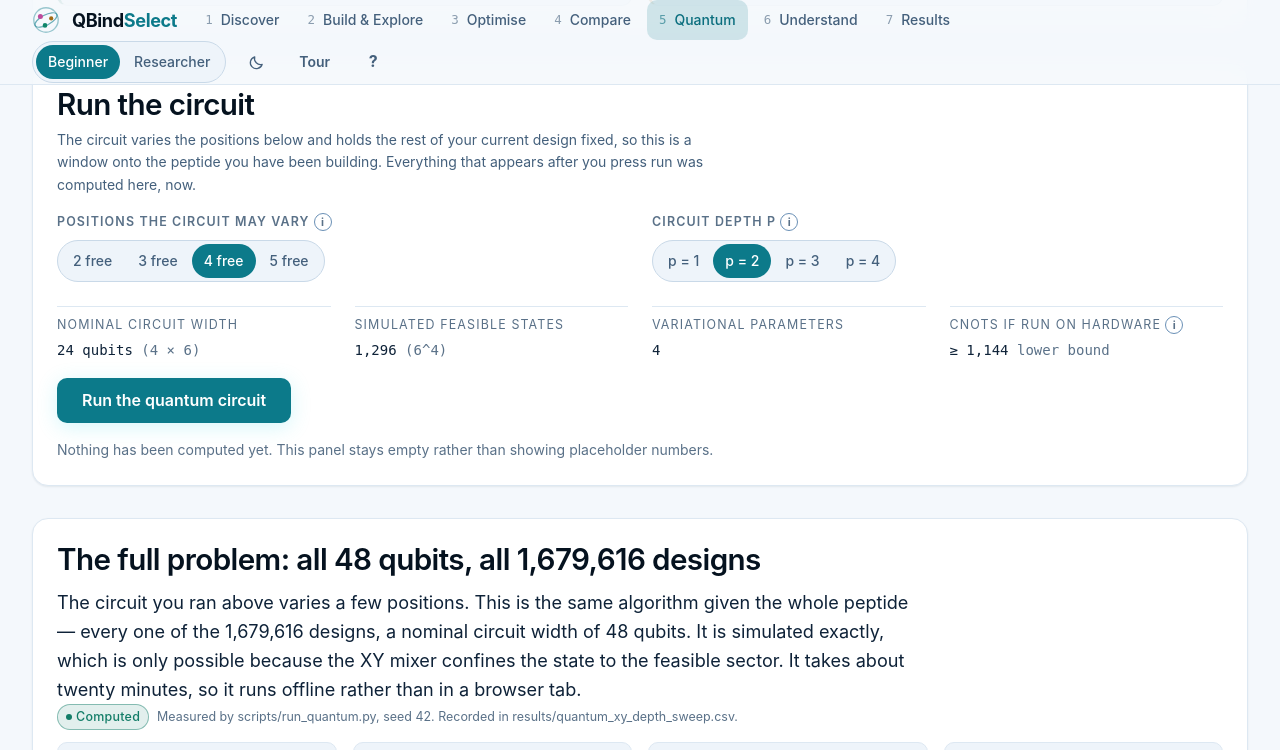
Scenario: Quantum screen: the live run › publishes a qubit map that covers every qubit in the circuit
(page scrolled)
Click the button "Run the quantum circuit" at x=174, y=400, box [57,378,291,423]
(page scrolled)
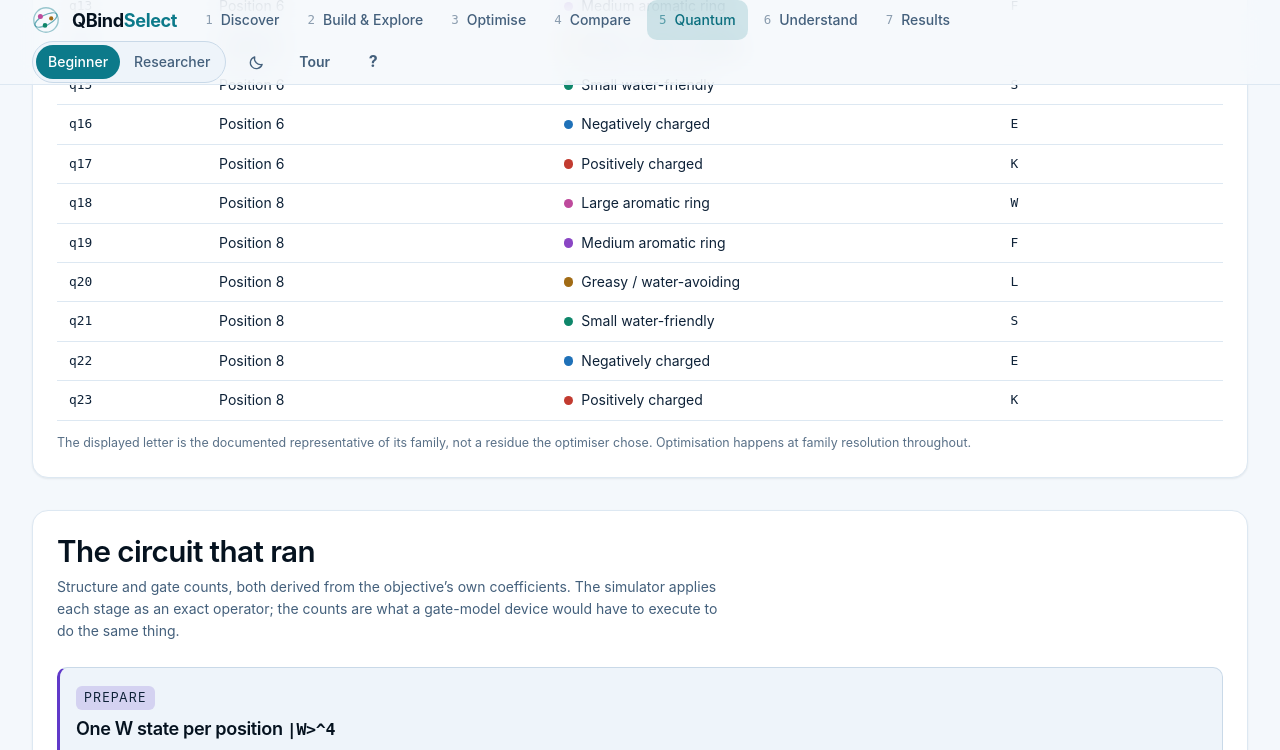
Check: the text "q23" is shown, box [57,381,207,420]
